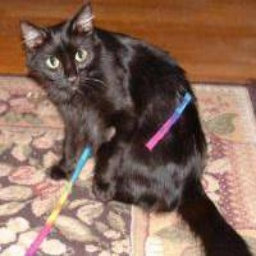cat: (17, 7, 244, 256)
